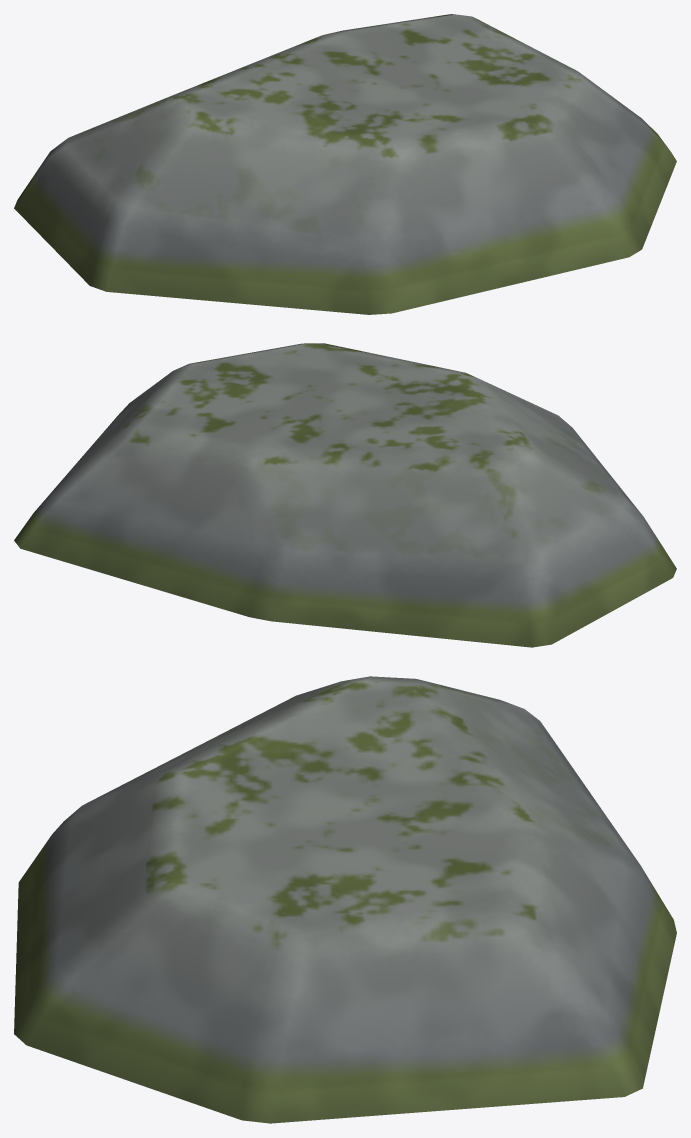
File: pebble_3_mossy.glb
3 views of the same model, one above another, from view 1: azimuth 30°, elevation 25°; view 2: azimuth 150°, elevation 25°; view 3: azimuth 270°, elevation 25° (orthographic). The views are drawn at different scales.
Parts seen in each view (by area): view 1: pebble_3_mossy; view 2: pebble_3_mossy; view 3: pebble_3_mossy.
Part boxes in pixels (x1,y1,x2,y2): pebble_3_mossy: (14,14,676,314); pebble_3_mossy: (14,343,676,647); pebble_3_mossy: (14,676,676,1123).
Size of the model in its own units: 0.5 by 0.1 by 0.38.
Materials: 1 (1 with a texture image).
